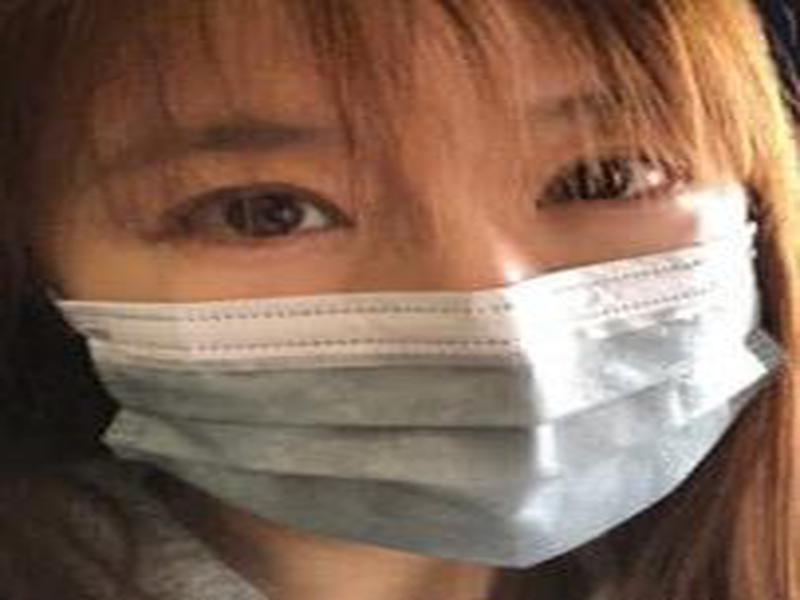with_mask: (25, 1, 772, 572)
